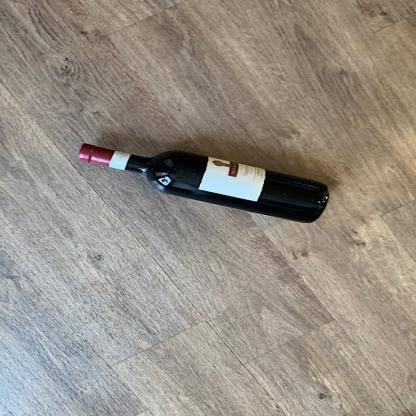trash: (68, 134, 332, 232)
